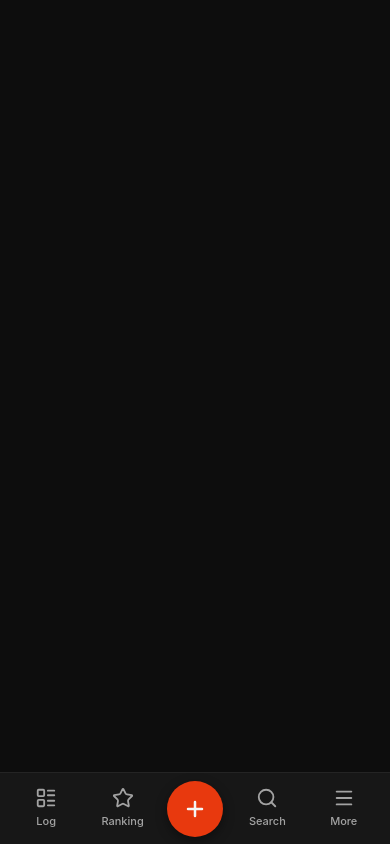
Test: MobileNav — the FAB with a sheet › stays tappable when the primary is disabled, and opens the sheet
Click the button named "Log a completion". click: (195, 808)
box: [167, 780, 223, 836]
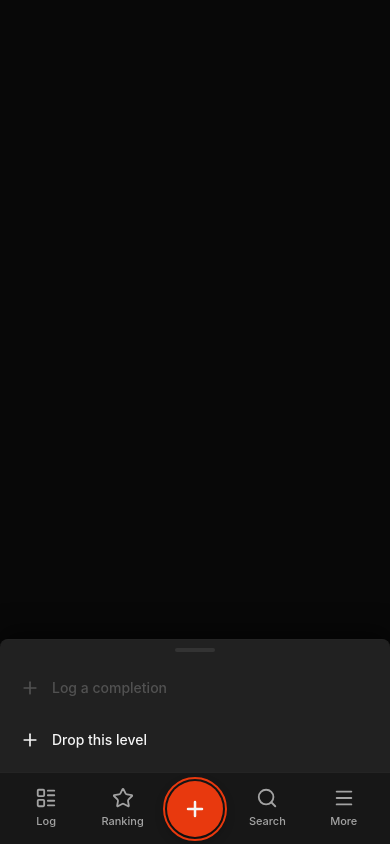
Check: the button "Drop this level" is shown, box [8, 716, 382, 764]
